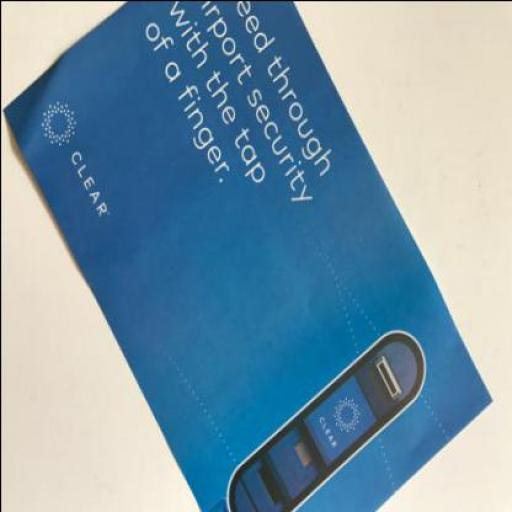paper: (0, 1, 494, 511)
